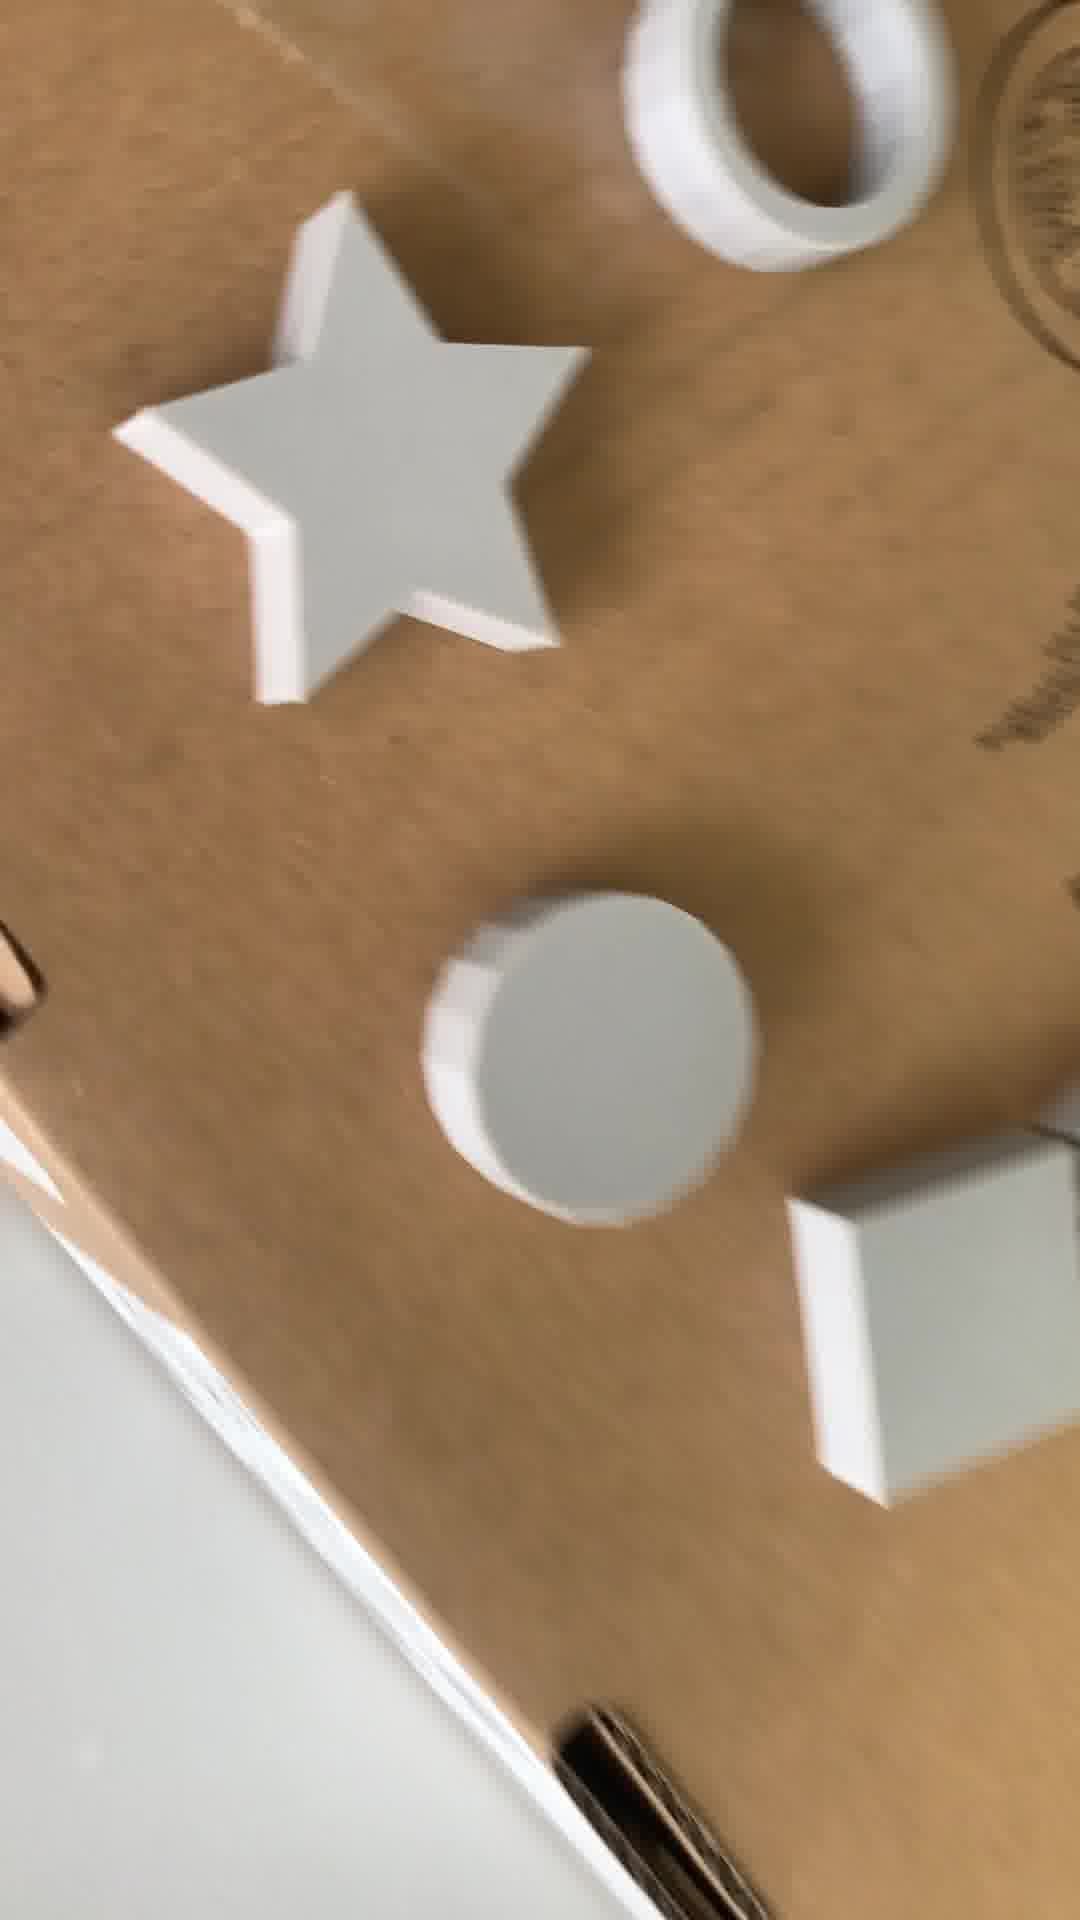Gray circle: (406, 862, 756, 1234)
Gray ring: (616, 1, 973, 287)
Gray square: (785, 1134, 1080, 1520)
Gray star: (138, 183, 600, 728)
